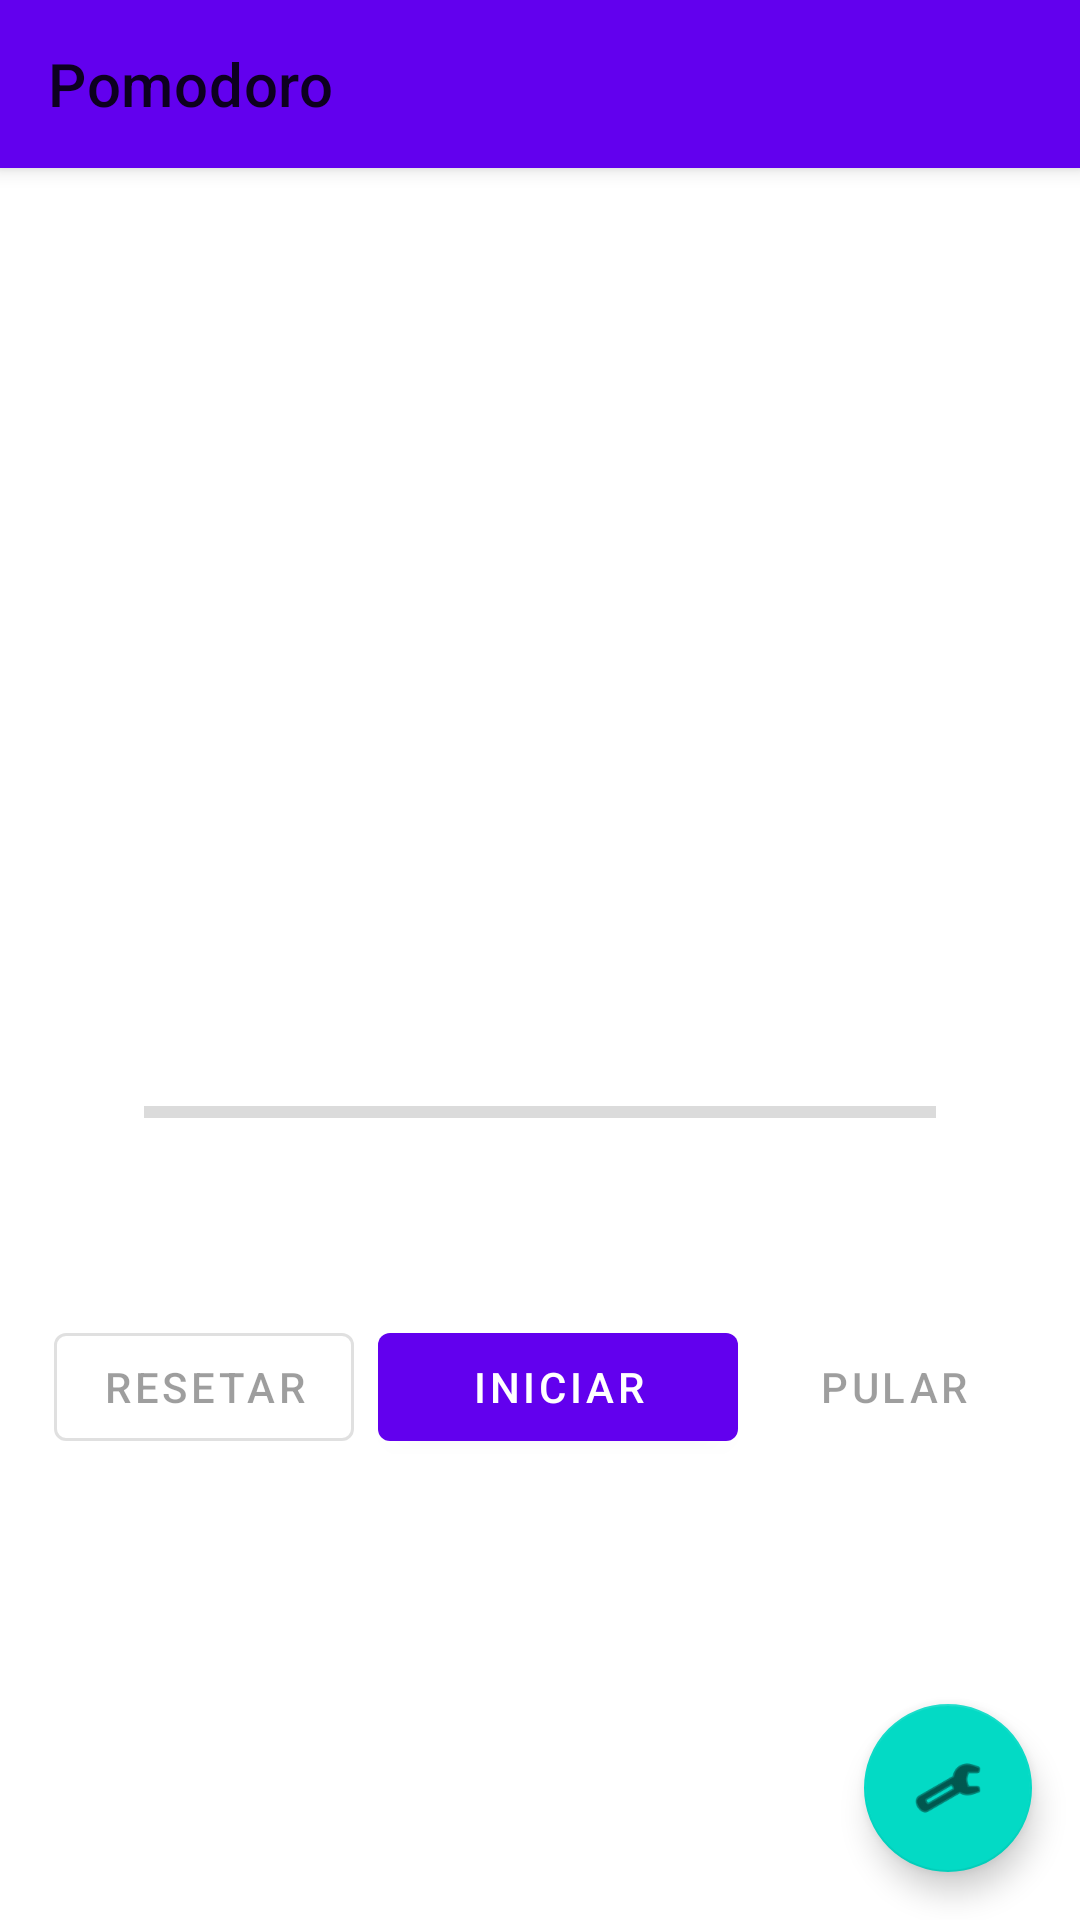

Named icons in this screenshot (1080 × 1920) and their centers, [x,y]:
Configurações do Pomodoro: [948,1788]
